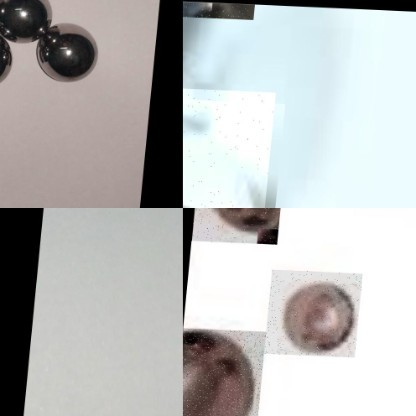ironball: (182, 83, 277, 208), (267, 267, 364, 354), (182, 326, 269, 415), (36, 20, 104, 85), (193, 208, 285, 242), (0, 0, 59, 40), (182, 0, 254, 18), (0, 36, 19, 83)
